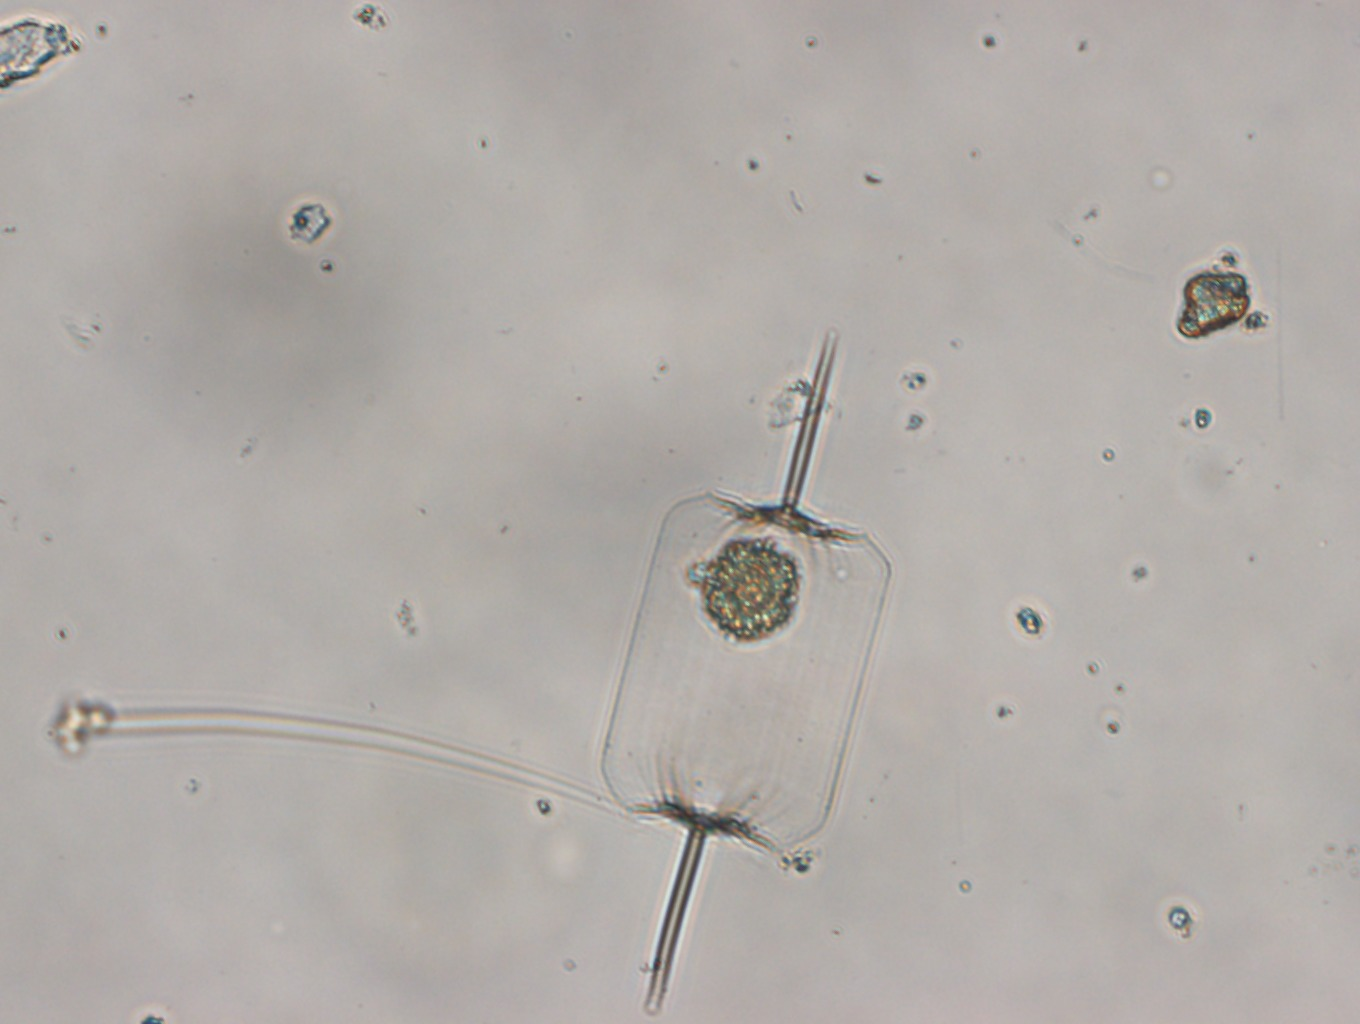ditylum: (600, 327, 891, 1014)
